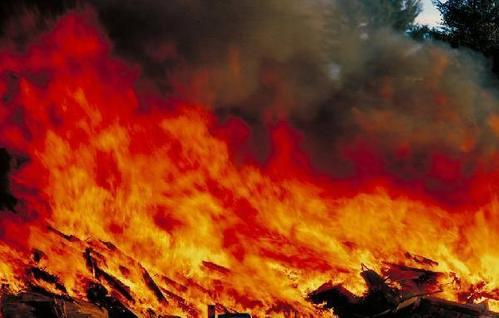fire: (63, 97, 493, 252)
